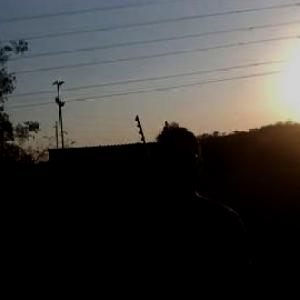follow: (109, 121, 259, 299)
